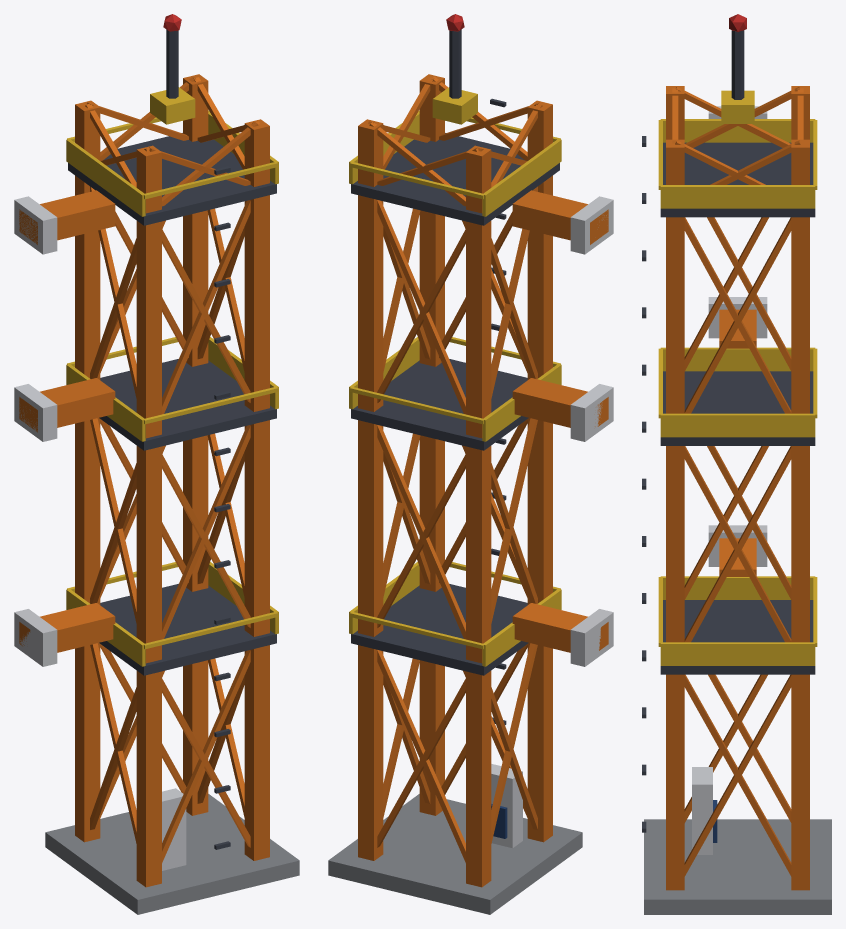
Rendered from Decor_LaunchPad_Gantry.fbx.
3 views of the same model, side by side, from view 1: azimuth 30°, elevation 25°; view 2: azimuth 150°, elevation 25°; view 3: azimuth 270°, elevation 25° (orthographic).
Visible parts, largest first — view 1: Gantry_Body; view 2: Gantry_Body; view 3: Gantry_Body.
Part boxes in pixels (<box>): Gantry_Body: <box>14,14,299,914</box>; Gantry_Body: <box>328,14,613,914</box>; Gantry_Body: <box>642,14,831,914</box>.
Bounding box in the file's own units: 12.5 × 45 × 9.
